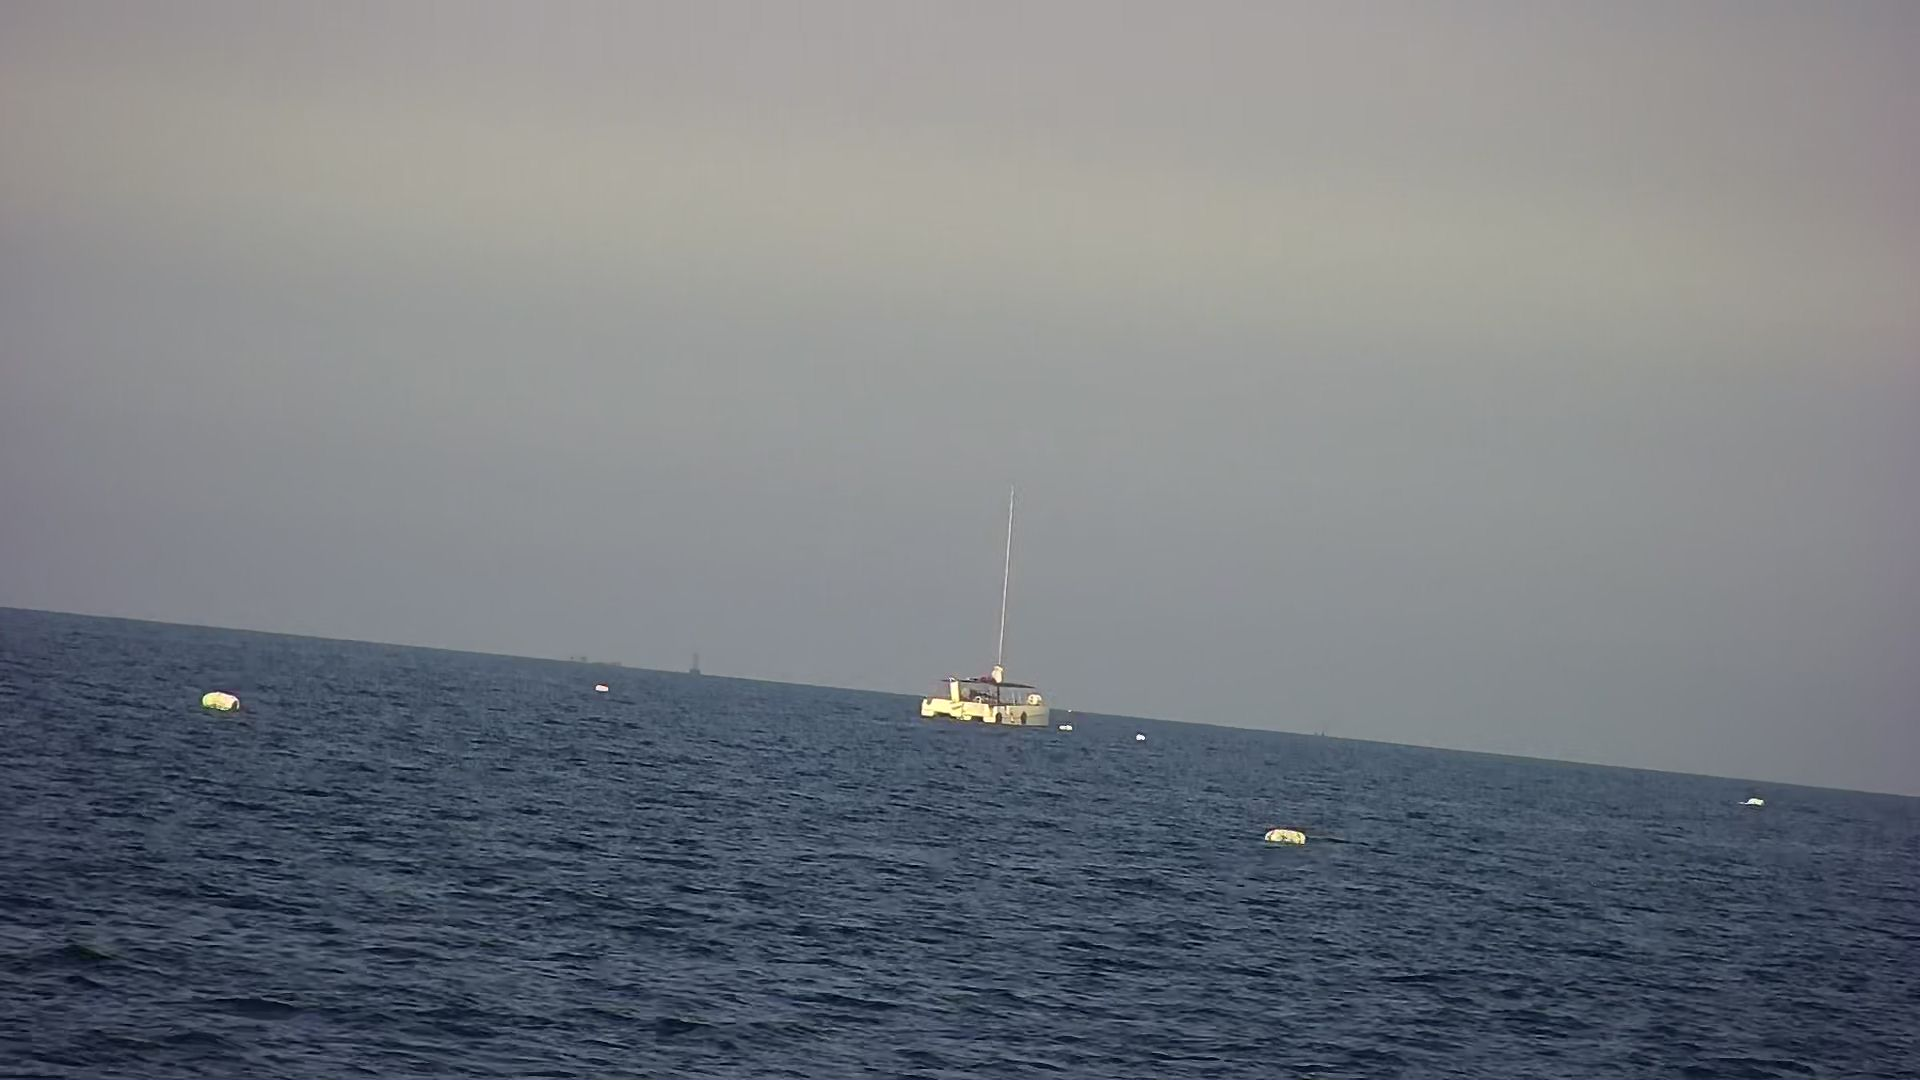platform: (918, 480, 1060, 727)
rubbish: (1251, 820, 1316, 855), (189, 682, 245, 720)
